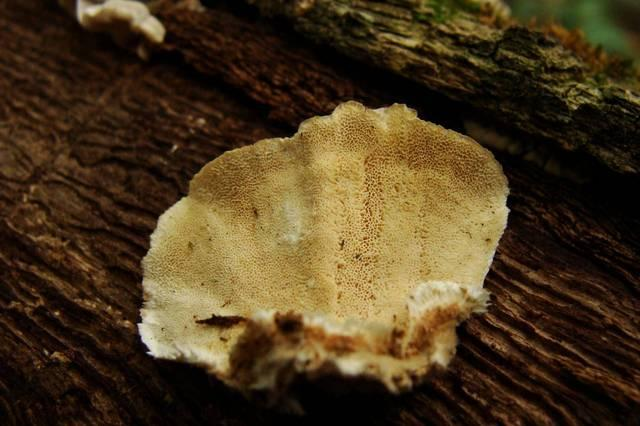Non-edible Mushroom: (135, 98, 511, 409)
